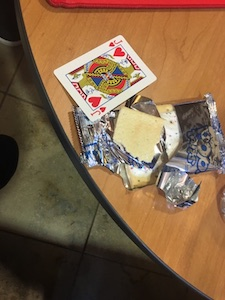JackOfHearts: (50, 33, 158, 124)
